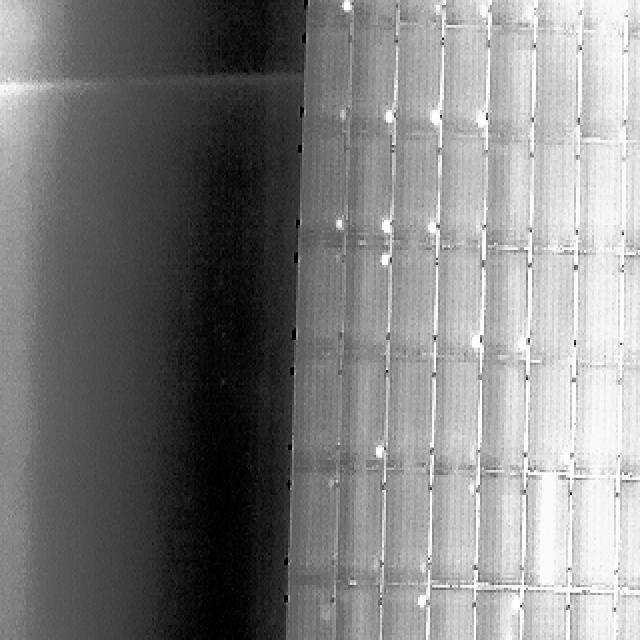Hotspots: (473, 108, 491, 134), (423, 108, 442, 132), (367, 439, 385, 463), (466, 332, 484, 356), (375, 106, 394, 128), (511, 333, 528, 357), (506, 590, 522, 615), (411, 587, 429, 609), (376, 213, 394, 235), (335, 102, 350, 128), (423, 218, 439, 240), (521, 1, 536, 24), (338, 0, 355, 20), (379, 251, 393, 272), (430, 0, 442, 16)
PV-modules: (390, 136, 441, 250), (384, 359, 434, 474), (435, 137, 485, 251), (481, 23, 531, 137), (294, 356, 342, 474), (333, 471, 383, 584), (476, 476, 524, 591), (525, 477, 573, 592), (568, 481, 616, 596), (337, 359, 385, 474), (384, 474, 432, 589), (343, 134, 392, 246), (528, 250, 577, 362), (433, 362, 482, 474), (291, 471, 339, 584), (433, 247, 481, 360), (297, 245, 345, 357), (342, 244, 390, 356), (396, 25, 444, 137), (574, 138, 622, 250), (348, 21, 396, 133), (389, 246, 437, 358), (480, 250, 528, 362), (428, 476, 475, 590), (475, 362, 522, 476), (580, 30, 627, 143), (482, 142, 530, 252), (528, 362, 574, 476), (572, 365, 618, 479), (298, 132, 344, 246), (574, 250, 620, 363), (530, 143, 577, 253), (534, 29, 580, 140), (440, 24, 486, 134), (307, 17, 351, 131), (614, 480, 640, 592), (332, 582, 380, 640), (424, 585, 474, 640), (616, 365, 640, 477), (284, 582, 330, 640), (520, 587, 570, 640), (470, 592, 516, 640), (384, 590, 428, 640), (501, 0, 571, 30), (622, 30, 640, 145), (566, 597, 614, 640), (622, 253, 640, 365), (624, 143, 640, 255), (535, 0, 582, 31), (608, 595, 640, 640), (345, 0, 398, 27), (576, 0, 622, 30), (442, 0, 491, 28), (484, 0, 532, 28), (396, 0, 442, 25), (302, 1, 347, 24), (472, 0, 508, 28), (622, 0, 640, 32)
